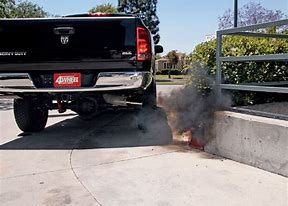smoke: (134, 65, 230, 153)
